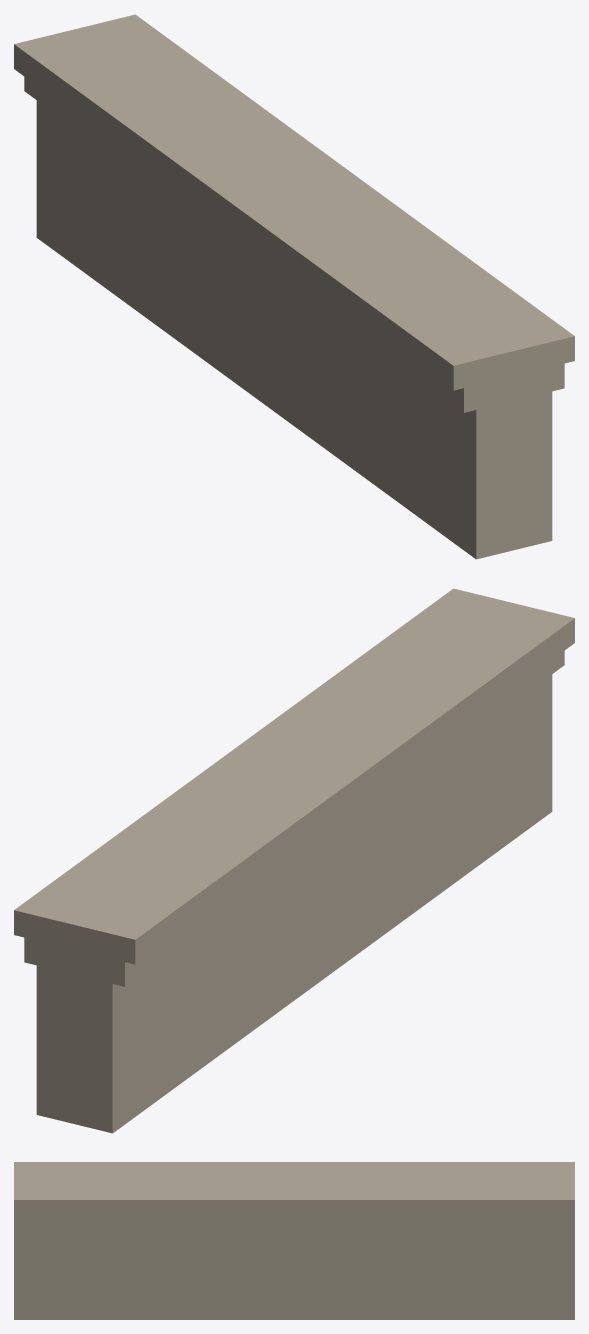
The model's file is Village_Wall_0.5m_Plaster_Roof.fbx.
The picture shows the model from 3 angles, top to bottom: view 1: azimuth 30°, elevation 25°; view 2: azimuth 150°, elevation 25°; view 3: azimuth 270°, elevation 25°; orthographic projection. The views are drawn at different scales.
Visible parts, largest first — view 1: Village_Wall_2m_Roof_A.281; view 2: Village_Wall_2m_Roof_A.281; view 3: Village_Wall_2m_Roof_A.281.
Boxes of the visible parts, x1,y1,x2,y2 form: Village_Wall_2m_Roof_A.281: [14, 14, 574, 559]; Village_Wall_2m_Roof_A.281: [14, 588, 574, 1133]; Village_Wall_2m_Roof_A.281: [14, 1162, 574, 1319].
Size of the model in its own units: 31.91 by 50 by 200.
